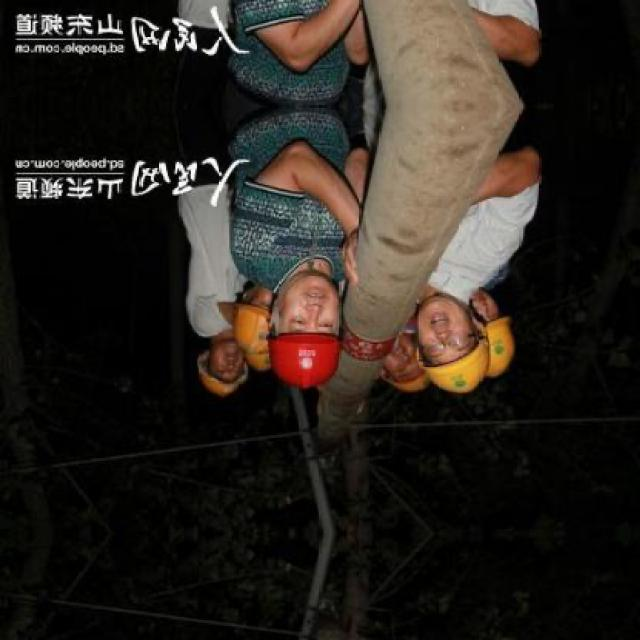con casco: (346, 244, 493, 379), (133, 280, 270, 418), (250, 228, 353, 391), (225, 282, 342, 378)
